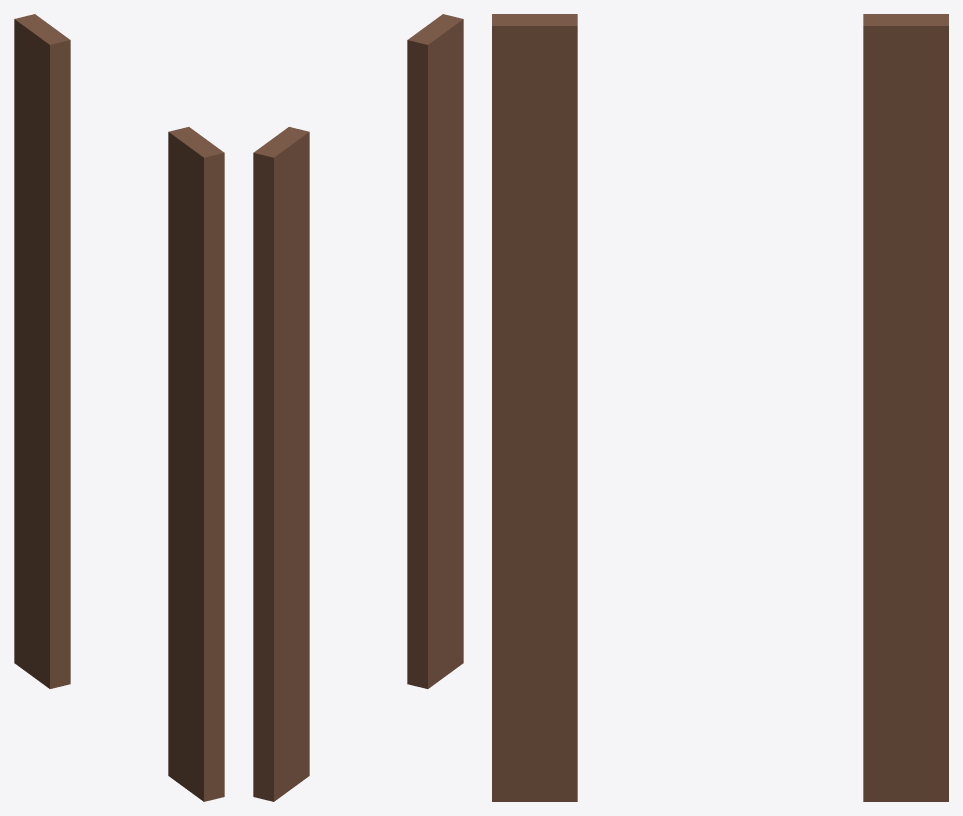
The model's file is Temple_sidewall.fbx.
3 views of the same model, side by side, from view 1: azimuth 30°, elevation 25°; view 2: azimuth 150°, elevation 25°; view 3: azimuth 270°, elevation 25° (orthographic). The views are drawn at different scales.
Parts seen in each view (by area): view 1: Temple wall_side.001; view 2: Temple wall_side.001; view 3: Temple wall_side.001.
Boxes of the visible parts, x1,y1,x2,y2 form: Temple wall_side.001: (14, 14, 224, 801); Temple wall_side.001: (253, 14, 463, 801); Temple wall_side.001: (492, 14, 948, 801).
Bounding box in the file's own units: 1 × 29.99 × 16.
